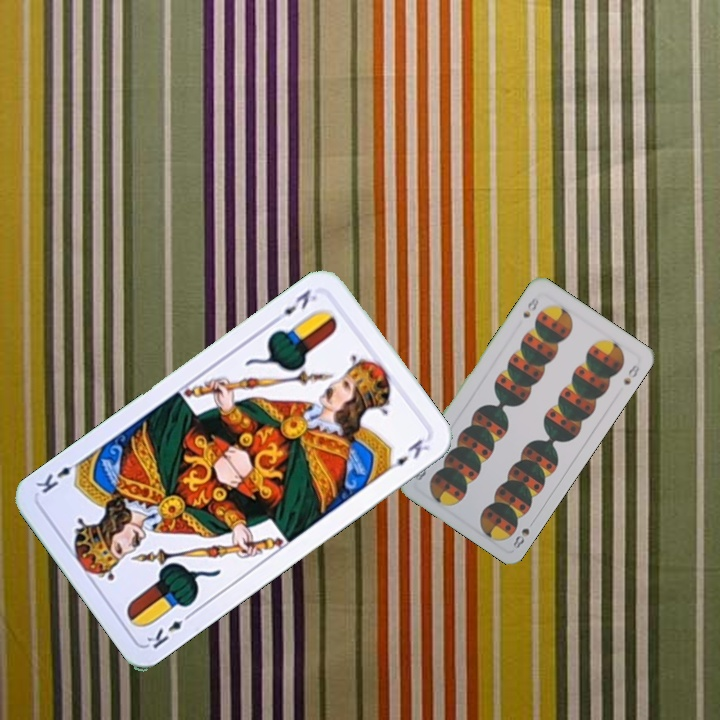EK: (142, 608, 196, 651), (269, 285, 320, 326)
S8: (509, 515, 538, 551), (519, 293, 541, 321)
